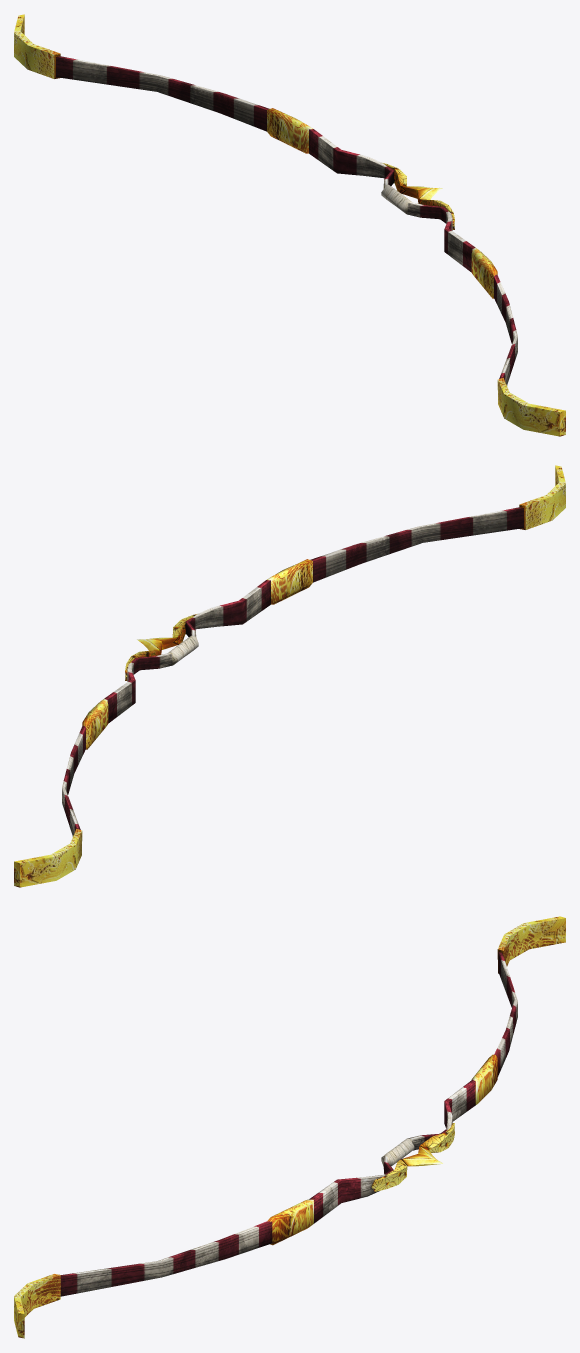
File: bow_l_yoichi_yoichi.glb
3 renders of one model, top to bottom at view 1: azimuth 30°, elevation 25°; view 2: azimuth 150°, elevation 25°; view 3: azimuth 330°, elevation 25°, orthographic.
Size of the model in its own units: 0.3866 by 0.0575 by 2.05.
1 material, 1 textured.
